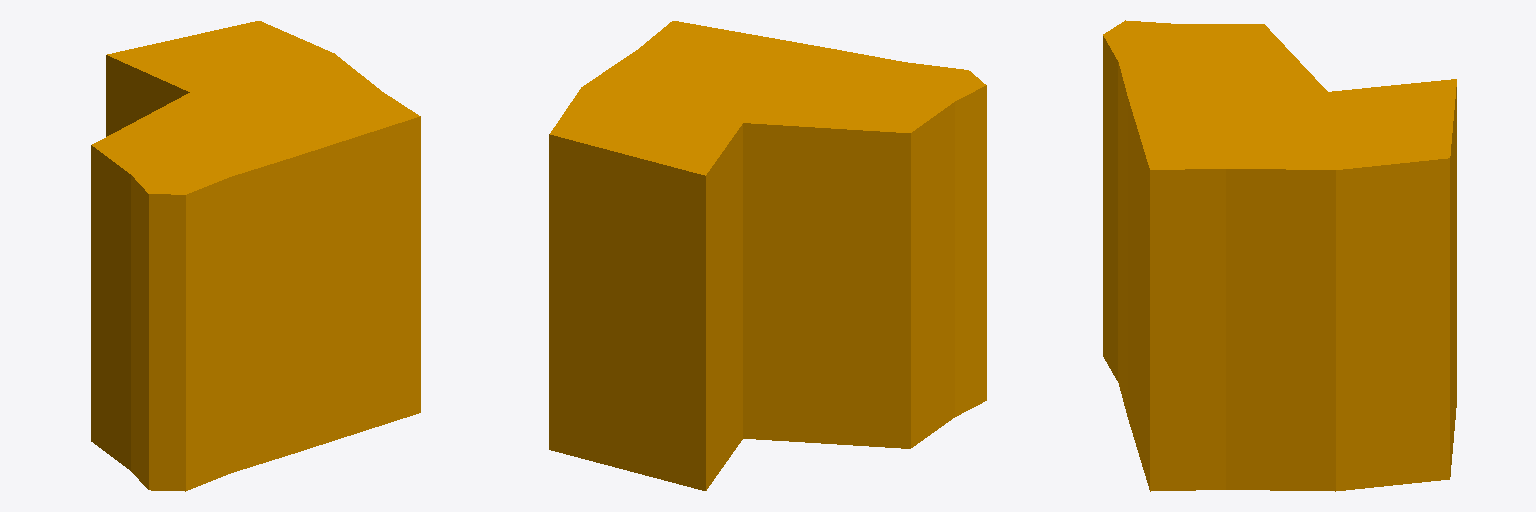
The robot description file, URDF, robot "object":
<?xml version="1.0"?>
<robot name="object">
  <link name="object">
    <visual>
      <origin xyz="0 0 0"/>
      <geometry>
        <mesh filename="meshes/polygon/poly_94_s.obj" scale=".03 .03 .03"/>
      </geometry>
    </visual>
    <collision>
  <origin xyz="0 0 0"/>
  <geometry>
    <mesh filename="meshes/polygon/poly_94_s_0decompose.obj" scale=".03 .03 .03"/>
<!--          <mesh filename="meshes/custom/obj0_ball.obj" scale=".05 .05 .05"/>-->
  </geometry>
</collision><collision>
  <origin xyz="0 0 0"/>
  <geometry>
    <mesh filename="meshes/polygon/poly_94_s_1decompose.obj" scale=".03 .03 .03"/>
<!--          <mesh filename="meshes/custom/obj0_ball.obj" scale=".05 .05 .05"/>-->
  </geometry>
</collision>

<!--    <collision>-->
<!--      <origin xyz="0 0 0"/>-->
<!--      <geometry>-->
<!--        <mesh filename="meshes/polygon/poly_94_s.obj" scale=".03 .03 .03"/>-->
<!--&lt;!&ndash;          <mesh filename="meshes/custom/obj0_ball.obj" scale=".05 .05 .05"/>&ndash;&gt;-->
<!--      </geometry>-->
<!--    </collision>-->
    <inertial>
      <density value="1000.0"/>
    </inertial>
  </link>
</robot>

--- Facts derived from the render (not from the file) ---
Views: 3 orthographic renders of the robot side by side, from view 1: azimuth 30°, elevation 25°; view 2: azimuth 150°, elevation 25°; view 3: azimuth 270°, elevation 25°.
Model object with 1 links and 0 joints (none), rooted at object, posed all joints at 0.
Links seen in each view (by area): view 1: object; view 2: object; view 3: object.
Link boxes in pixels (left/top/right/bottom): object: left=91, top=21, right=420, bottom=491; object: left=549, top=21, right=986, bottom=490; object: left=1103, top=20, right=1456, bottom=491.
Bounding box of the posed robot: 0.06 × 0.06 × 0.06 m (x, y, z).
Meshes: 1 distinct files referenced, 1 mesh visuals loaded (1 OBJ).
